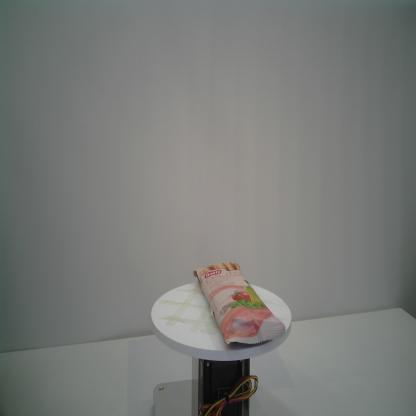Dessert: (191, 260, 287, 348)
